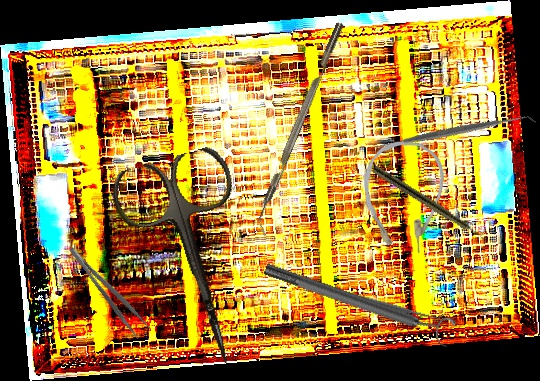Cannula: (360, 140, 446, 255)
Chopper: (248, 21, 354, 238)
Dressing Forceps: (66, 239, 152, 341)
Fixation Ring: (260, 252, 457, 350)
Handpiece: (370, 164, 492, 246)
Iris Scissors: (106, 142, 282, 381)
Spatula Surgical: (368, 47, 537, 217), (287, 273, 446, 328)
